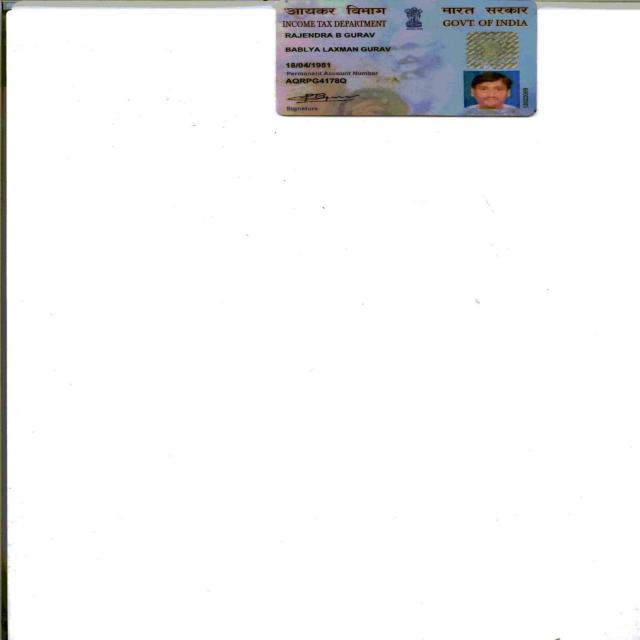pan_card: (275, 0, 535, 117)
